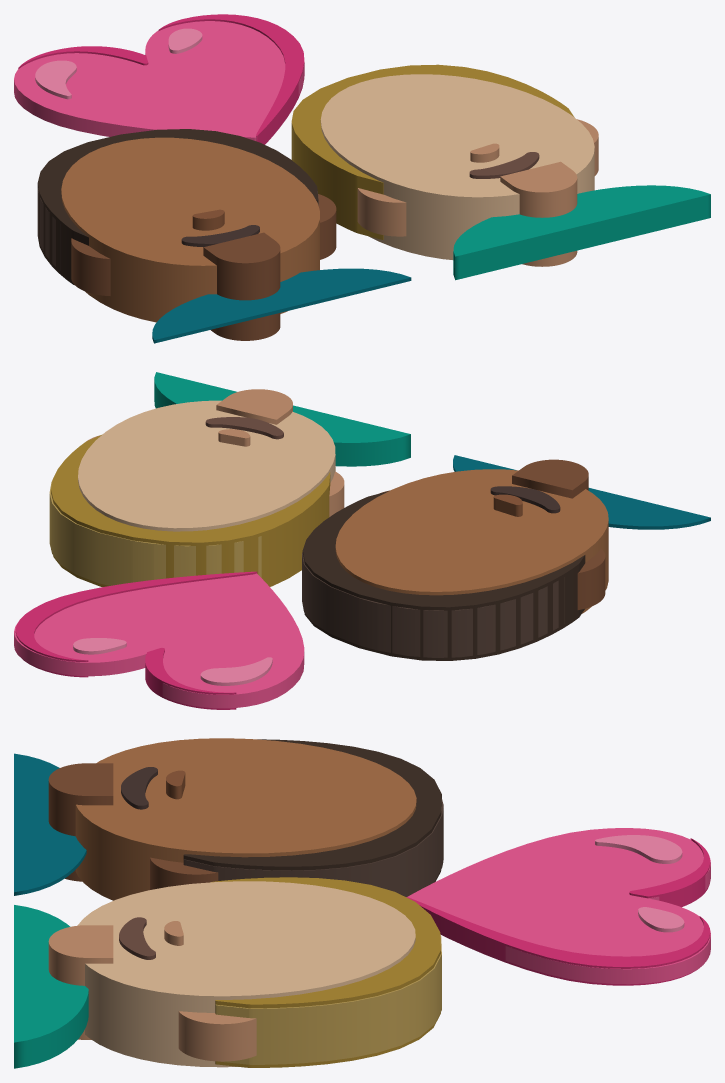
File: emoji_u1f468_1f3fe_200d_2764_200d_1f468_1f3fc.glb
The picture shows the model from 3 angles, top to bottom: view 1: azimuth 30°, elevation 25°; view 2: azimuth 150°, elevation 25°; view 3: azimuth 270°, elevation 25°; orthographic projection. The views are drawn at different scales.
Visible parts, largest first — view 1: emoji_u1f468_1f3fe_200d_2764_200d_1f468_1f3fc; view 2: emoji_u1f468_1f3fe_200d_2764_200d_1f468_1f3fc; view 3: emoji_u1f468_1f3fe_200d_2764_200d_1f468_1f3fc.
Part boxes in pixels (x1,y1,x2,y2): emoji_u1f468_1f3fe_200d_2764_200d_1f468_1f3fc: (14, 14, 710, 343); emoji_u1f468_1f3fe_200d_2764_200d_1f468_1f3fc: (14, 372, 710, 709); emoji_u1f468_1f3fe_200d_2764_200d_1f468_1f3fc: (14, 738, 710, 1068).
Bounding box in the file's own units: 0.0345 × 0.005 × 0.0338.
